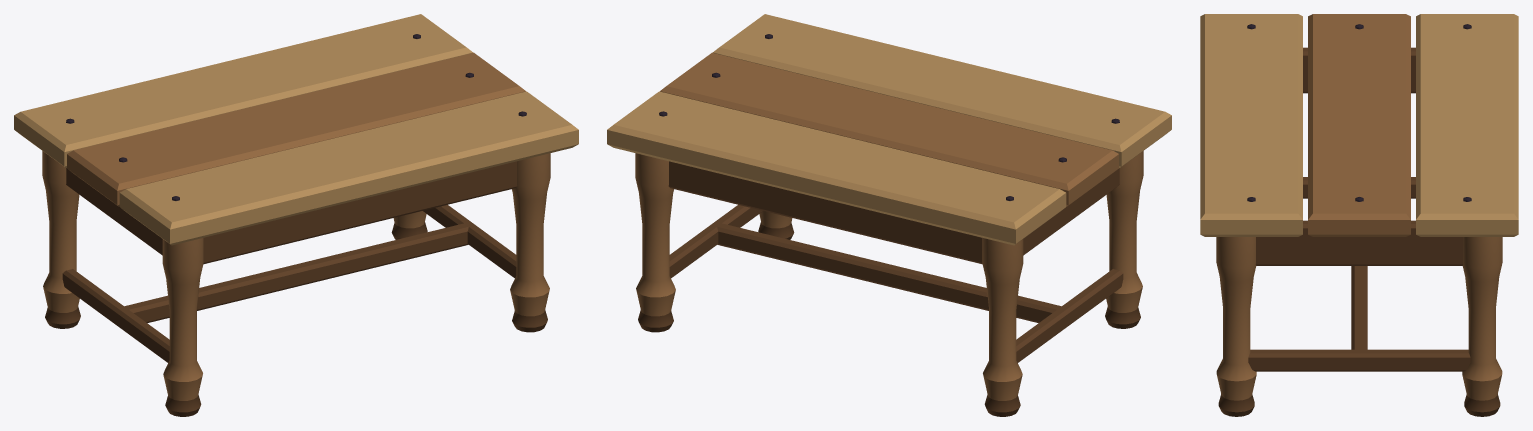
The model's file is Table_06.glb.
3 renders of one model, left to right at view 1: azimuth 30°, elevation 25°; view 2: azimuth 150°, elevation 25°; view 3: azimuth 270°, elevation 25°, orthographic. The views are drawn at different scales.
Parts seen in each view (by area): view 1: Table_06; view 2: Table_06; view 3: Table_06.
Part boxes in pixels (box(x1,y1,x2,y2)): Table_06: box(14, 14, 578, 416); Table_06: box(607, 14, 1171, 416); Table_06: box(1200, 14, 1518, 416).
Bounding box in the file's own units: 5.92 × 2.89 × 3.91.
